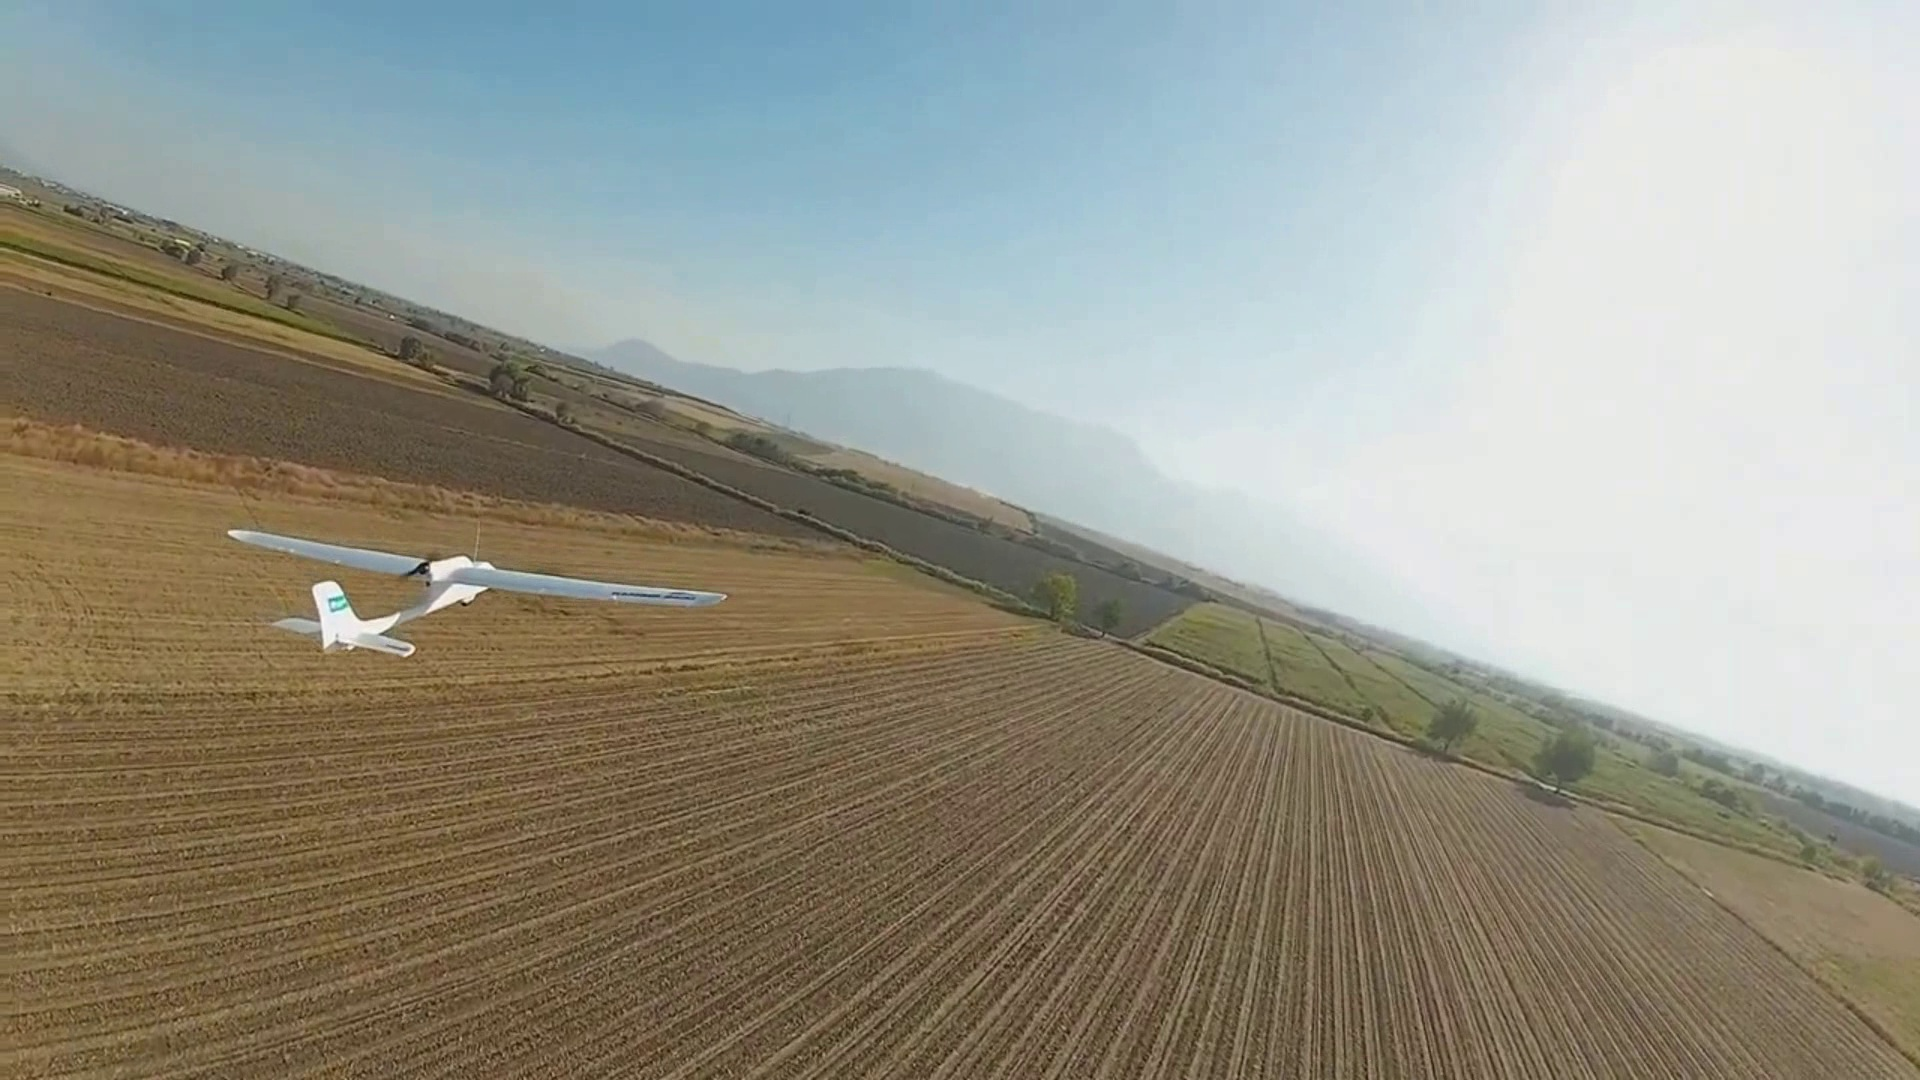airplane: (47, 239, 1917, 876), (224, 525, 728, 659)
